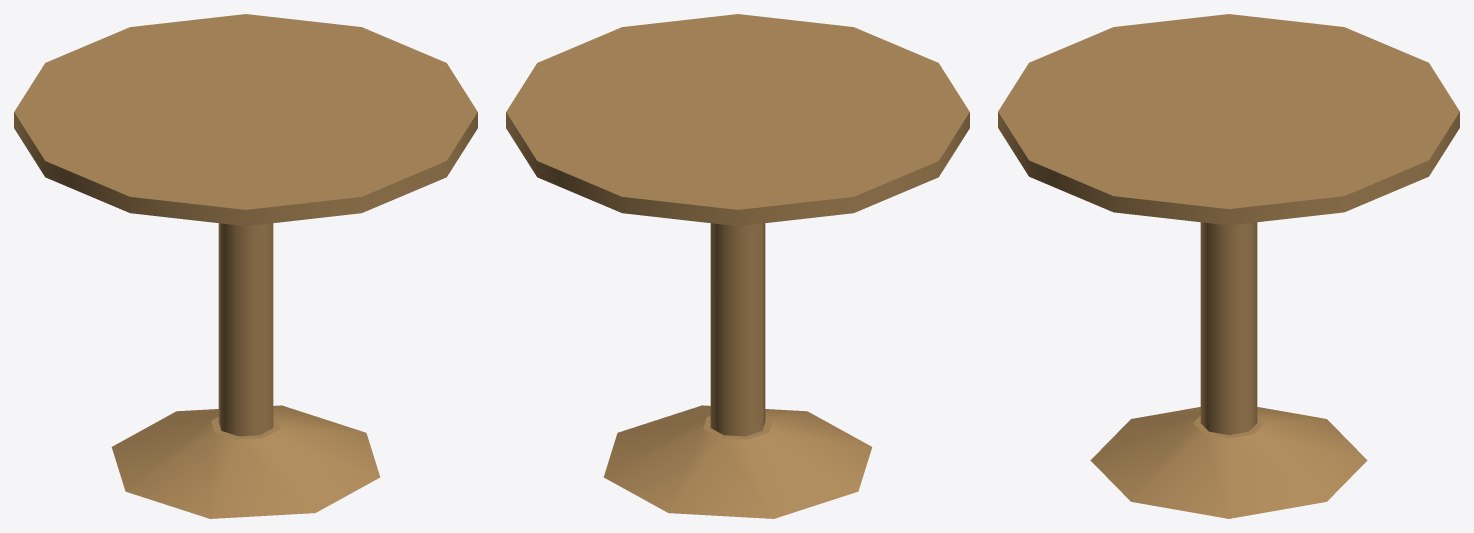
File: parametric-round_table-2nd-pub.glb
3 renders of one model, left to right at view 1: azimuth 30°, elevation 25°; view 2: azimuth 150°, elevation 25°; view 3: azimuth 270°, elevation 25°, orthographic.
Visible parts, largest first — view 1: parametric-round_table-2nd-pub; view 2: parametric-round_table-2nd-pub; view 3: parametric-round_table-2nd-pub.
Boxes of the visible parts, box(x1,y1,x2,y2) form: parametric-round_table-2nd-pub: box(14, 14, 477, 518); parametric-round_table-2nd-pub: box(506, 14, 969, 518); parametric-round_table-2nd-pub: box(998, 14, 1459, 518).
Bounding box in the file's own units: 0.9 × 0.75 × 0.9.
